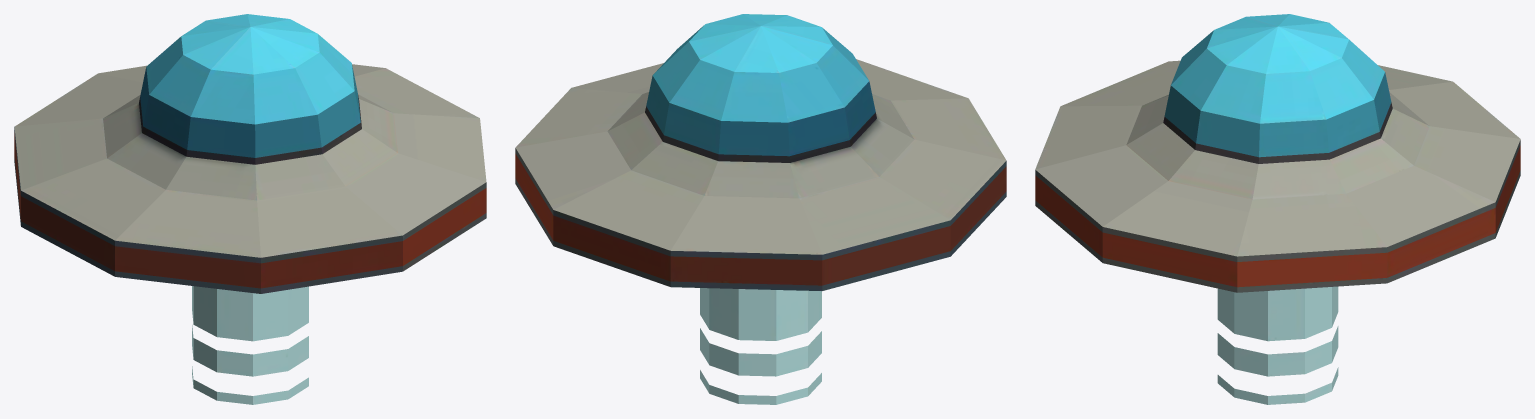
File: eohMeC0WMlM.glb
3 renders of one model, left to right at view 1: azimuth 30°, elevation 25°; view 2: azimuth 150°, elevation 25°; view 3: azimuth 270°, elevation 25°, orthographic.
Visible parts, largest first — view 1: PUSHILIN_flying_saucer_Circle.006; view 2: PUSHILIN_flying_saucer_Circle.006; view 3: PUSHILIN_flying_saucer_Circle.006.
Part boxes in pixels (<box>): PUSHILIN_flying_saucer_Circle.006: <box>14,14,486,404</box>; PUSHILIN_flying_saucer_Circle.006: <box>515,14,1006,404</box>; PUSHILIN_flying_saucer_Circle.006: <box>1035,14,1520,404</box>.
Bounding box in the file's own units: 1.24 × 1 × 1.25.
1 material, 1 textured.
